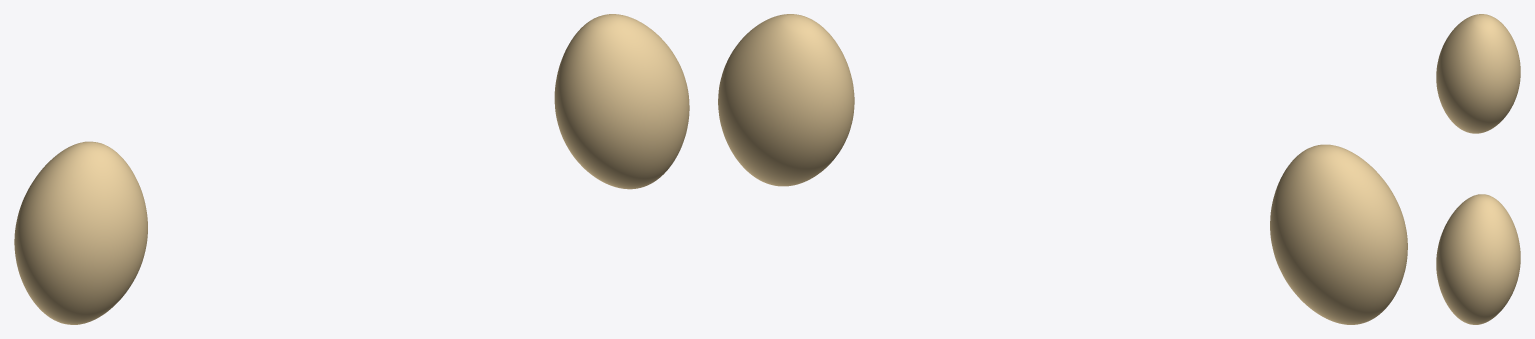
Rendered from Feminine-arms-compact.glb.
3 renders of one model, left to right at view 1: azimuth 30°, elevation 25°; view 2: azimuth 150°, elevation 25°; view 3: azimuth 270°, elevation 25°, orthographic. The views are drawn at different scales.
Visible parts, largest first — view 1: Skin / compact arm -1, Skin / compact arm 1; view 2: Skin / compact arm -1, Skin / compact arm 1; view 3: Skin / compact arm 1, Skin / compact arm -1.
Part boxes in pixels (bbox=[...]): Skin / compact arm -1: bbox=[14, 141, 147, 324]; Skin / compact arm 1: bbox=[554, 14, 689, 189]; Skin / compact arm -1: bbox=[1270, 144, 1407, 324]; Skin / compact arm 1: bbox=[718, 14, 854, 186]; Skin / compact arm 1: bbox=[1436, 194, 1520, 324]; Skin / compact arm -1: bbox=[1436, 14, 1520, 133].
Size of the model in its own units: 1.18 by 0.2882 by 0.1855.
